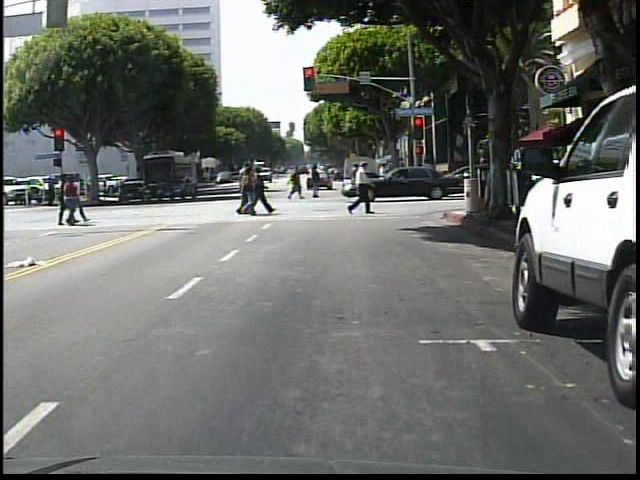person: (347, 158, 380, 221)
